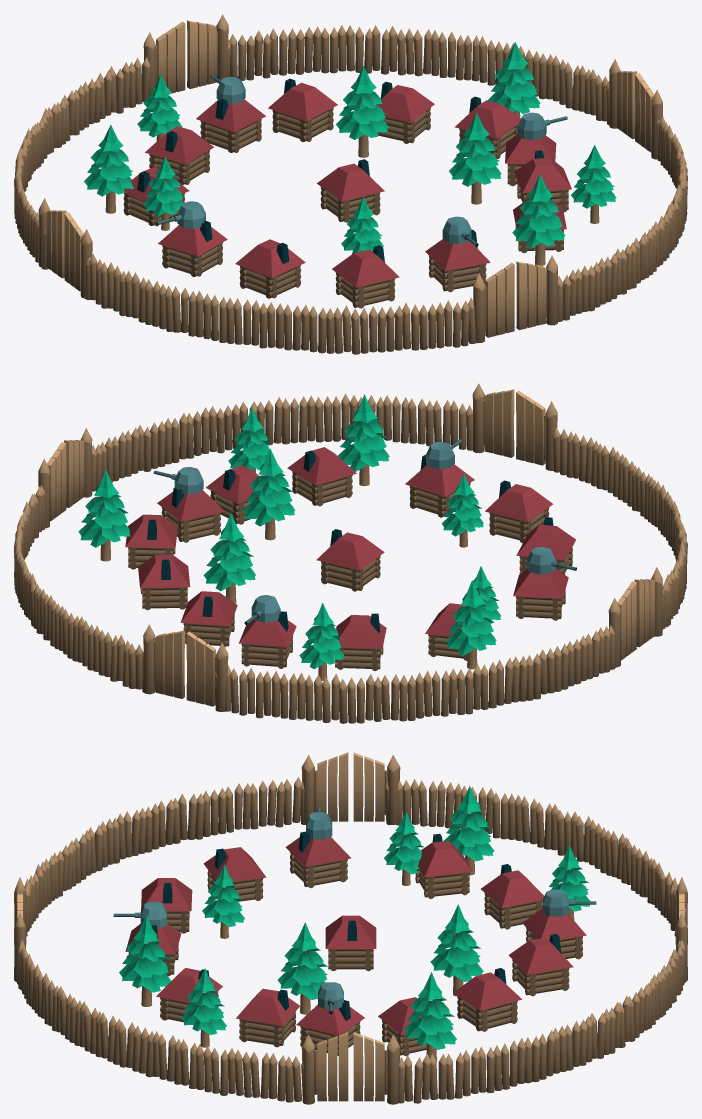
Rendered from stage_1.fbx.
3 renders of one model, top to bottom at view 1: azimuth 30°, elevation 25°; view 2: azimuth 150°, elevation 25°; view 3: azimuth 270°, elevation 25°, orthographic.
Visible parts, largest first — view 1: Circle.235, gate.008|Circle.085|Dupli|1, gate.011|Circle.085|Dupli|1, tree.064|Cylinder|Dupli|, tree.061|Cylinder|Dupli|, tree.080|Cylinder|Dupli|, gate.009|Circle.085|Dupli|1, gate.010|Circle.085|Dupli|1, tree.085|Cylinder|Dupli|, tree.078|Cylinder|Dupli|, tree.067|Cylinder|Dupli|, tree.083|Cylinder|Dupli| (+23 smaller); view 2: Circle.235, gate.008|Circle.085|Dupli|1, gate.011|Circle.085|Dupli|1, tree.078|Cylinder|Dupli|, tree.064|Cylinder|Dupli|, tree.080|Cylinder|Dupli|, tree.061|Cylinder|Dupli|, gate.010|Circle.085|Dupli|1, tree.085|Cylinder|Dupli|, gate.009|Circle.085|Dupli|1, tree.083|Cylinder|Dupli|, tree.087|Cylinder|Dupli| (+24 smaller); view 3: Circle.235, gate.010|Circle.085|Dupli|1, gate.009|Circle.085|Dupli|1, tree.061|Cylinder|Dupli|, tree.078|Cylinder|Dupli|, tree.080|Cylinder|Dupli|, tree.064|Cylinder|Dupli|, tree.085|Cylinder|Dupli|, tree.067|Cylinder|Dupli|, gate.010|Circle.084|Dupli|, gate.009|Circle.084|Dupli|, tree.087|Cylinder|Dupli| (+22 smaller).
Part boxes in pixels (x1=…): Circle.235: x1=14, y1=25, x2=687, y2=354; gate.008|Circle.085|Dupli|1: x1=485, y1=261, x2=545, y2=337; gate.011|Circle.085|Dupli|1: x1=156, y1=20, x2=216, y2=93; tree.064|Cylinder|Dupli|: x1=449, y1=113, x2=501, y2=204; tree.061|Cylinder|Dupli|: x1=512, y1=174, x2=565, y2=265; tree.080|Cylinder|Dupli|: x1=336, y1=66, x2=388, y2=157; gate.009|Circle.085|Dupli|1: x1=46, y1=210, x2=83, y2=291; gate.010|Circle.085|Dupli|1: x1=617, y1=71, x2=654, y2=152; tree.085|Cylinder|Dupli|: x1=84, y1=124, x2=133, y2=213; tree.078|Cylinder|Dupli|: x1=487, y1=42, x2=540, y2=117; tree.067|Cylinder|Dupli|: x1=571, y1=145, x2=616, y2=223; tree.083|Cylinder|Dupli|: x1=137, y1=74, x2=182, y2=141; Circle.235: x1=14, y1=393, x2=687, y2=723; gate.008|Circle.085|Dupli|1: x1=484, y1=389, x2=545, y2=465; gate.011|Circle.085|Dupli|1: x1=155, y1=630, x2=215, y2=706; tree.078|Cylinder|Dupli|: x1=78, y1=469, x2=130, y2=561; tree.064|Cylinder|Dupli|: x1=243, y1=448, x2=295, y2=540; tree.080|Cylinder|Dupli|: x1=203, y1=513, x2=255, y2=603; tree.061|Cylinder|Dupli|: x1=338, y1=394, x2=389, y2=486; gate.010|Circle.085|Dupli|1: x1=47, y1=440, x2=84, y2=521; tree.085|Cylinder|Dupli|: x1=445, y1=580, x2=496, y2=669; gate.009|Circle.085|Dupli|1: x1=617, y1=579, x2=654, y2=660; tree.083|Cylinder|Dupli|: x1=299, y1=603, x2=343, y2=680; tree.087|Cylinder|Dupli|: x1=441, y1=473, x2=483, y2=547; Circle.235: x1=17, y1=777, x2=686, y2=1103; gate.010|Circle.085|Dupli|1: x1=317, y1=1032, x2=384, y2=1101; gate.009|Circle.085|Dupli|1: x1=317, y1=752, x2=384, y2=821; tree.061|Cylinder|Dupli|: x1=119, y1=915, x2=171, y2=1006; tree.078|Cylinder|Dupli|: x1=404, y1=972, x2=456, y2=1062; tree.080|Cylinder|Dupli|: x1=430, y1=904, x2=483, y2=996; tree.064|Cylinder|Dupli|: x1=277, y1=922, x2=327, y2=1014; tree.085|Cylinder|Dupli|: x1=443, y1=786, x2=494, y2=875; tree.067|Cylinder|Dupli|: x1=181, y1=968, x2=226, y2=1047; gate.010|Circle.084|Dupli|: x1=301, y1=1034, x2=400, y2=1104; gate.009|Circle.084|Dupli|: x1=301, y1=755, x2=400, y2=824; tree.087|Cylinder|Dupli|: x1=202, y1=864, x2=244, y2=938.
Size of the model in its own units: 2755 by 417 by 2755.
2 materials, 2 textured.
